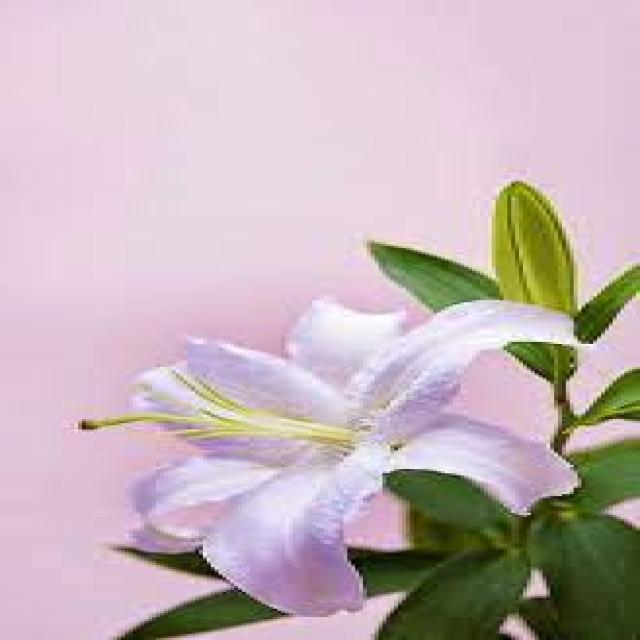lily: (43, 283, 595, 640)
